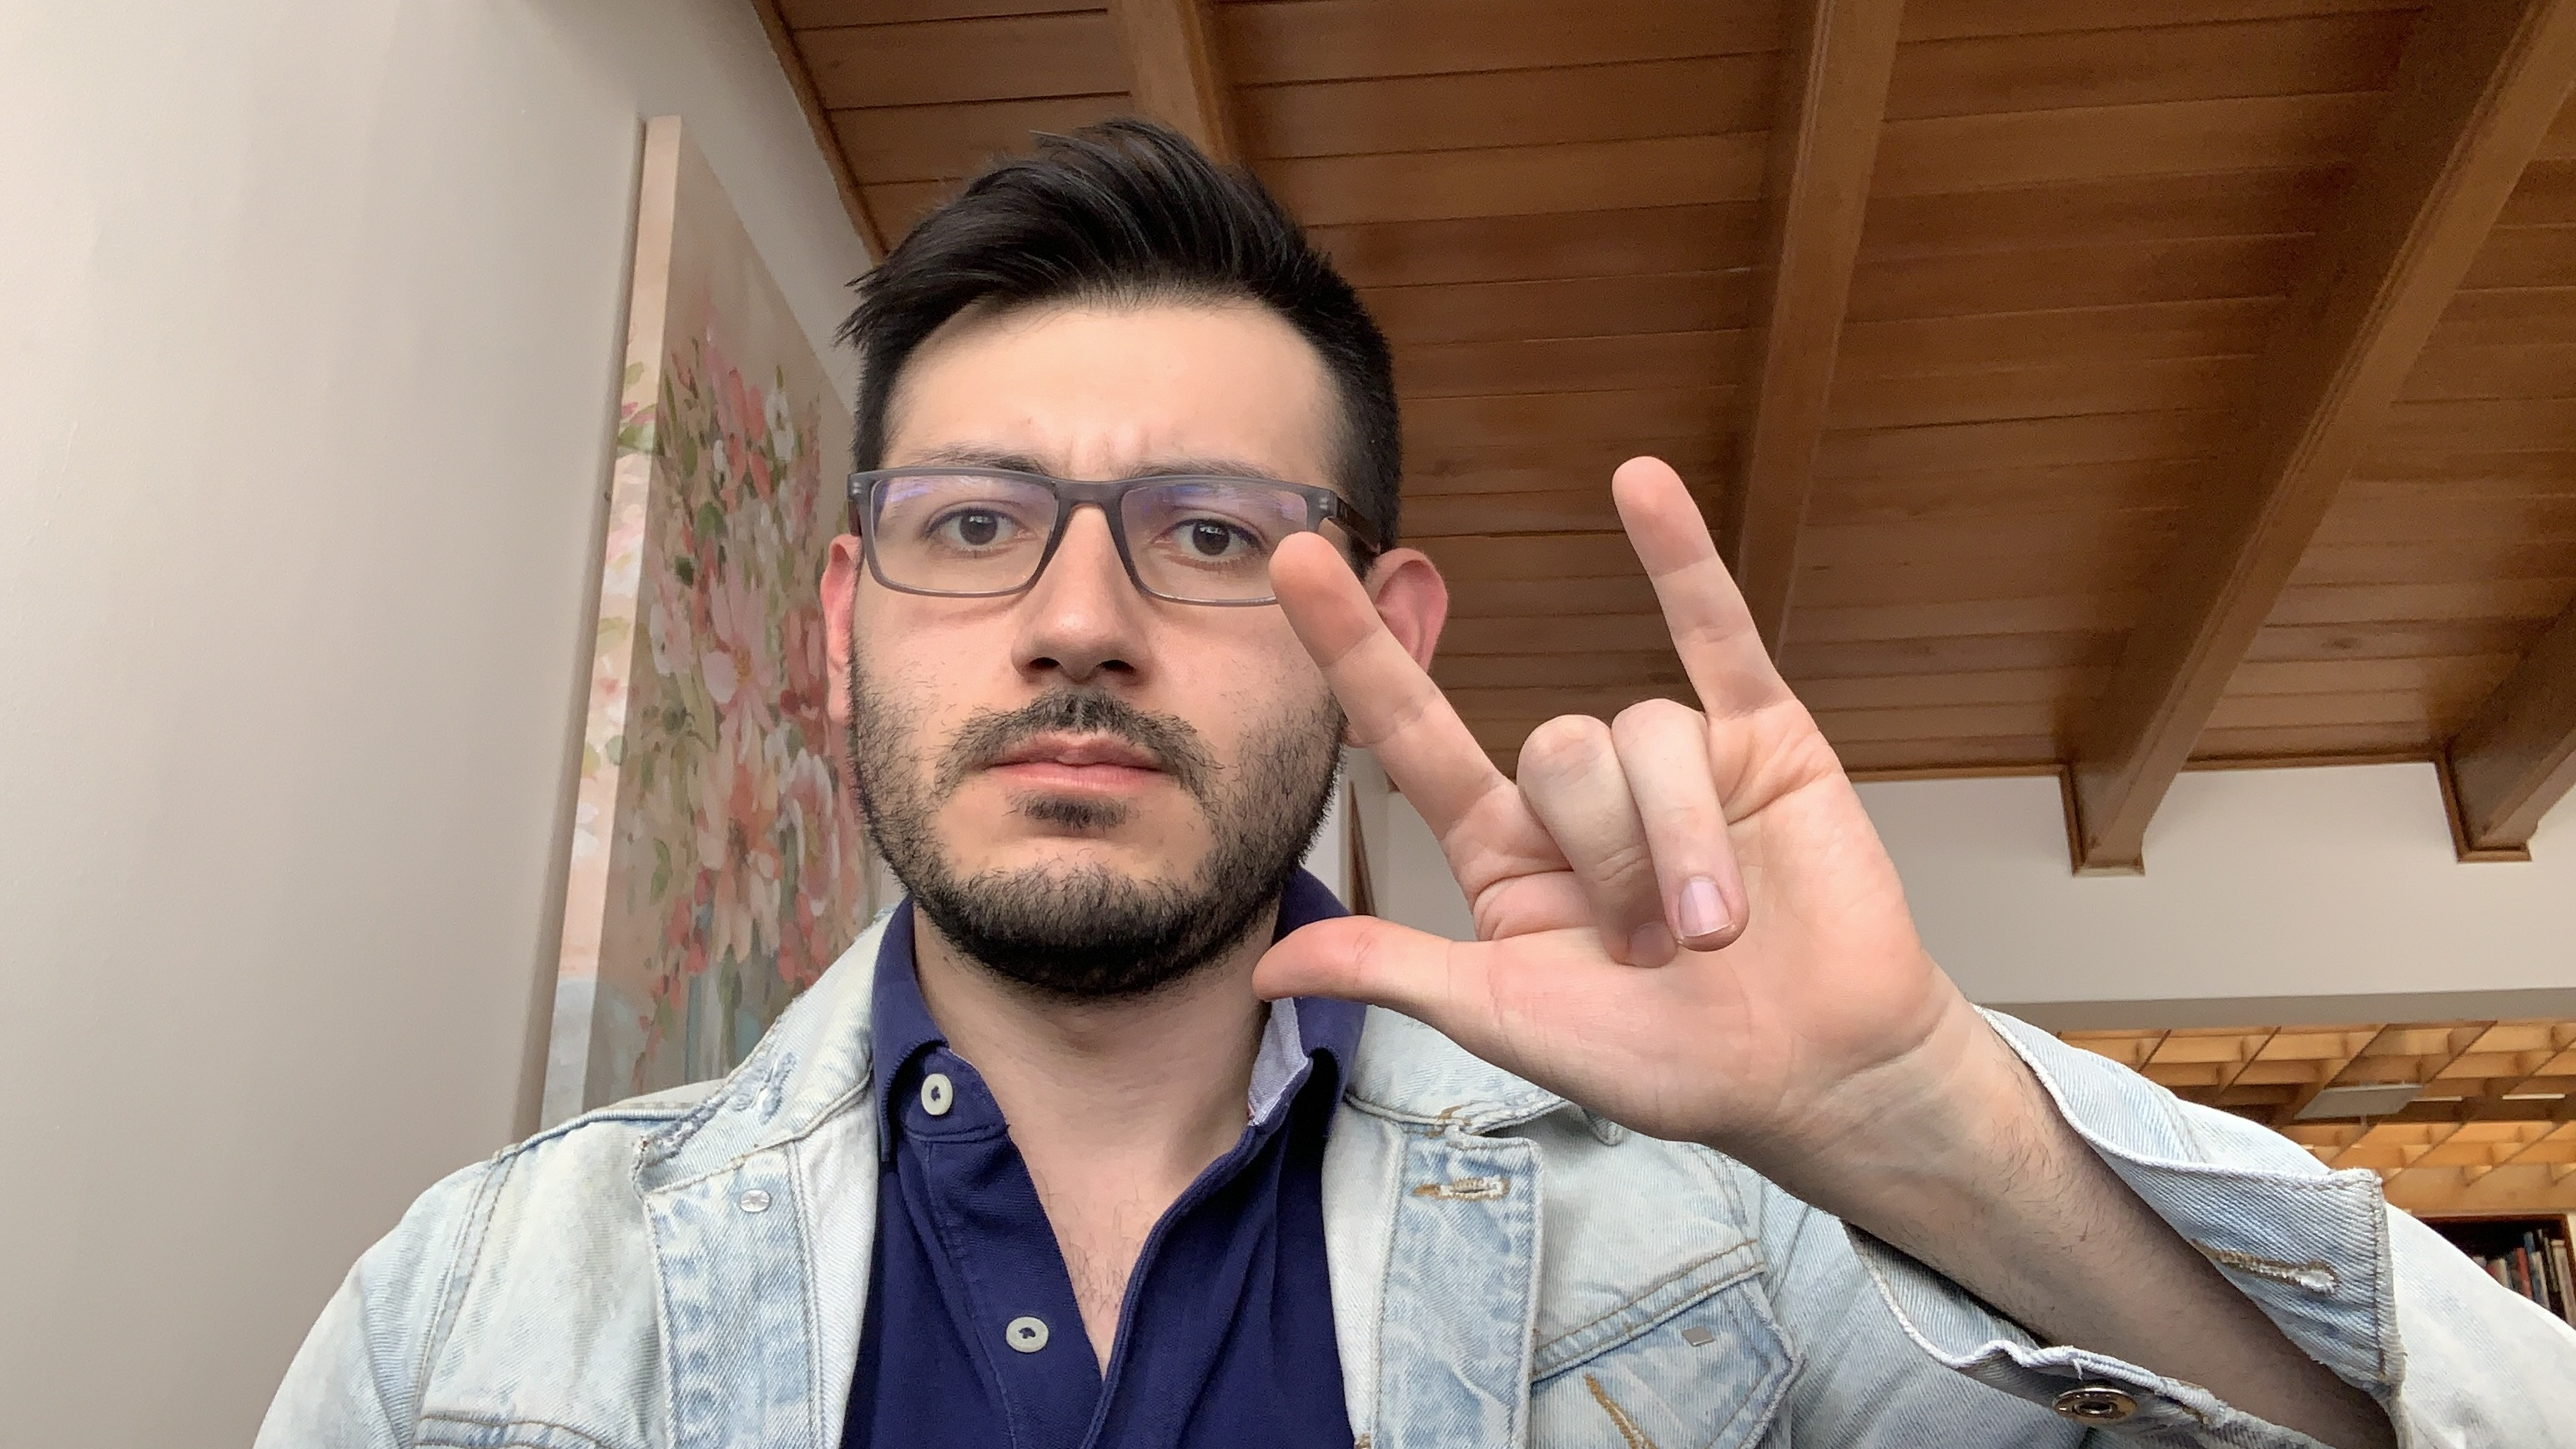I Love You: (1242, 444, 1957, 1194)
